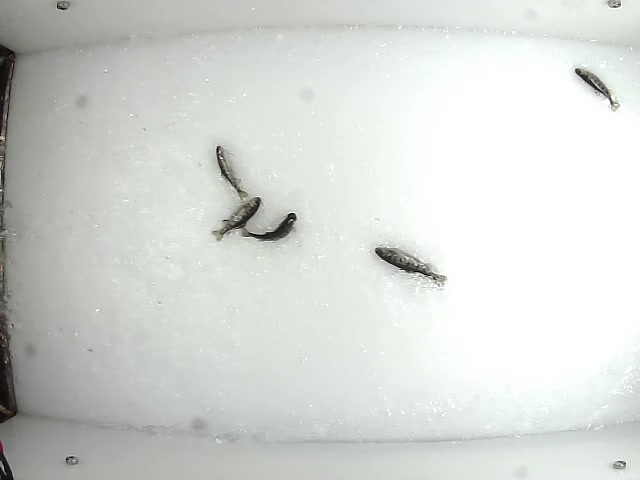fish: (373, 245, 447, 290), (210, 195, 261, 242), (571, 67, 622, 113), (214, 144, 250, 201), (238, 211, 300, 243)
